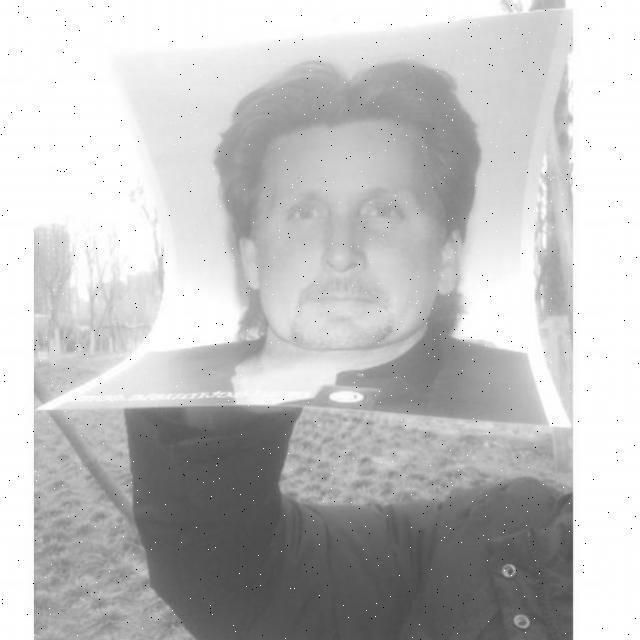fake: (38, 2, 572, 433)
